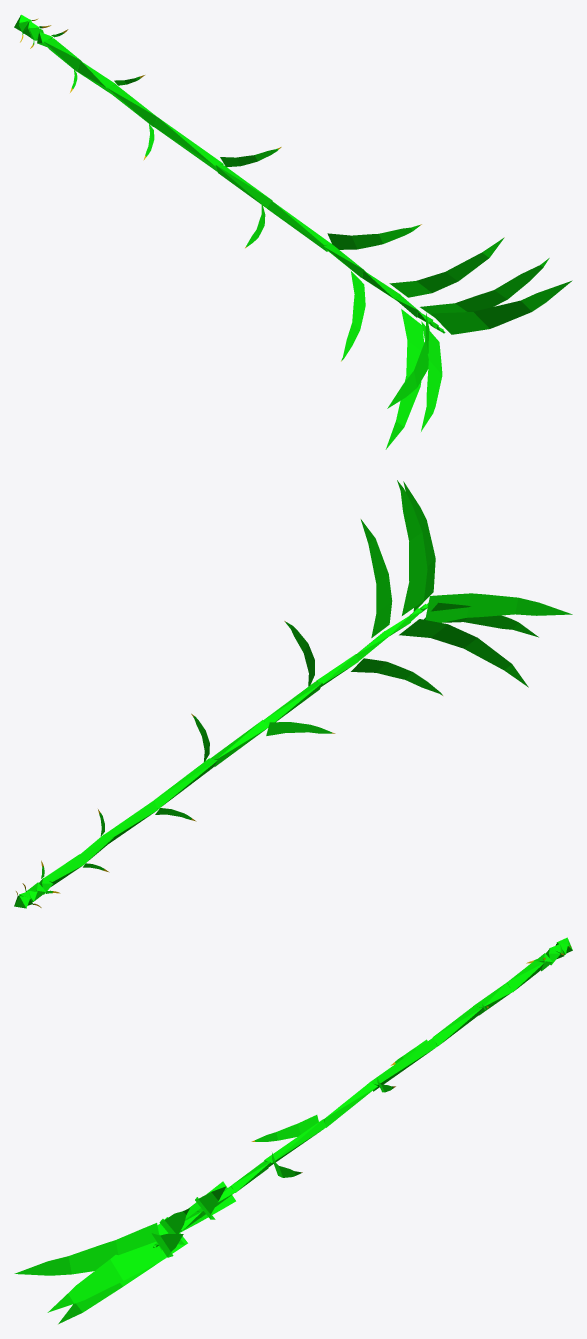
Rendered from usm_20_2.5D_2018-08-20_5.obj.
3 renders of one model, top to bottom at view 1: azimuth 30°, elevation 25°; view 2: azimuth 150°, elevation 25°; view 3: azimuth 330°, elevation 25°, orthographic. The views are drawn at different scales.
Visible parts, largest first — view 1: vid_36, vid_32, vid_28, vid_30, vid_38, vid_24, vid_34, vid_19, vid_26, vid_23, vid_21, vid_17; view 2: vid_34, vid_30, vid_32, vid_28, vid_26, vid_36, vid_38, vid_19, vid_21, vid_23, vid_17, vid_22; view 3: vid_38, vid_34, vid_30, vid_19, vid_22, vid_23, vid_17, vid_21.
Part boxes in pixels (x1,y1,x2,y2): vid_36: (431,280,572,334); vid_32: (420,258,549,317); vid_28: (389,238,503,297); vid_30: (385,309,424,449); vid_38: (421,321,442,431); vid_24: (327,225,419,249); vid_34: (387,312,429,408); vid_19: (153,117,223,171); vid_26: (341,271,365,360); vid_23: (267,201,330,251); vid_21: (216,165,272,208); vid_17: (107,85,157,126); vid_34: (425,593,572,622); vid_30: (399,619,528,687); vid_32: (397,480,427,615); vid_28: (361,519,392,637); vid_26: (351,658,442,694); vid_36: (403,481,435,611); vid_38: (424,602,538,637); vid_19: (154,758,217,809); vid_21: (210,720,268,766); vid_23: (263,681,322,726); vid_17: (105,800,157,843); vid_22: (266,722,331,735); vid_38: (47,1241,165,1312); vid_34: (14,1223,161,1275); vid_30: (58,1217,187,1323); vid_19: (370,1038,437,1091); vid_22: (255,1115,318,1141); vid_23: (264,1119,326,1166); vid_17: (433,1006,482,1046); vid_21: (323,1082,377,1127).
Size of the model in its own units: 60.74 by 53.78 by 276.
